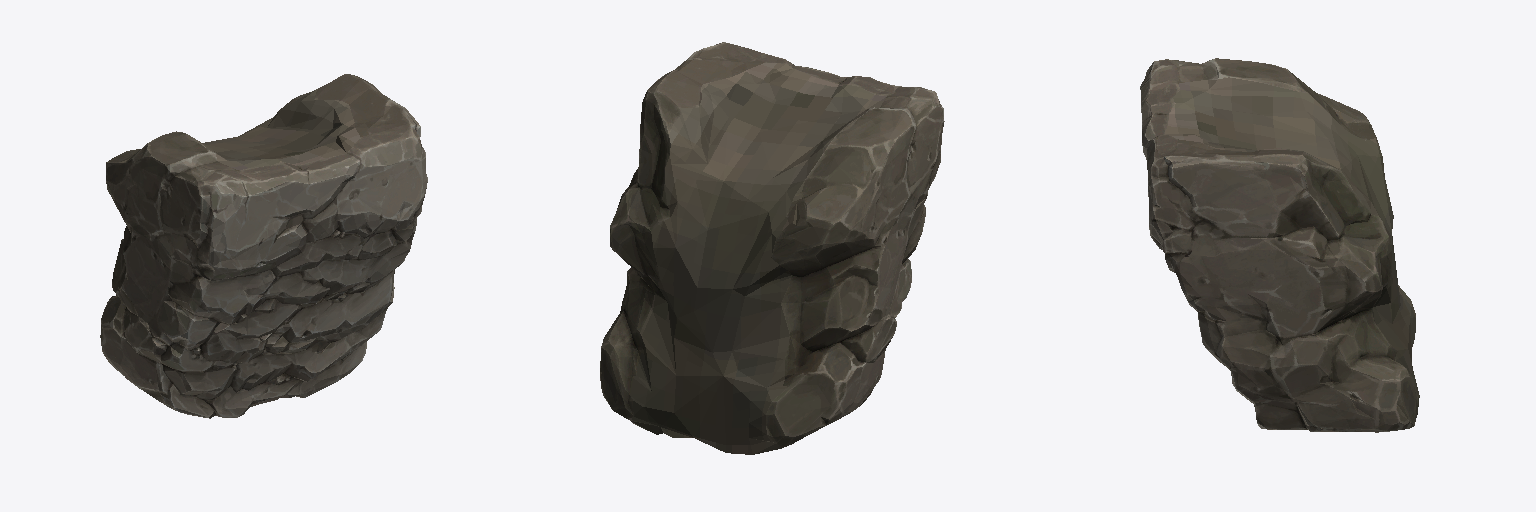
3 views of the same model, side by side, from view 1: azimuth 30°, elevation 25°; view 2: azimuth 150°, elevation 25°; view 3: azimuth 270°, elevation 25° (orthographic).
Parts seen in each view (by area): view 1: Dn_HL_Stairs_Rock_B; view 2: Dn_HL_Stairs_Rock_B; view 3: Dn_HL_Stairs_Rock_B.
Boxes of the visible parts, <box> form: Dn_HL_Stairs_Rock_B: <box>100,74,427,418</box>; Dn_HL_Stairs_Rock_B: <box>600,42,944,454</box>; Dn_HL_Stairs_Rock_B: <box>1140,58,1419,432</box>.
Bounding box in the file's own units: 8.5 × 10.23 × 8.49.
Materials: 1 (1 with a texture image).